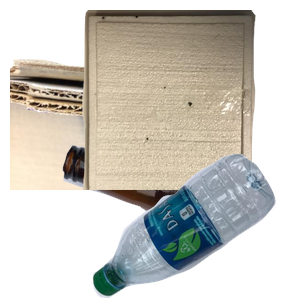cardboard: (10, 57, 250, 237)
glass: (60, 142, 300, 300)
plastic: (90, 154, 300, 300)
trash: (80, 10, 300, 190)
